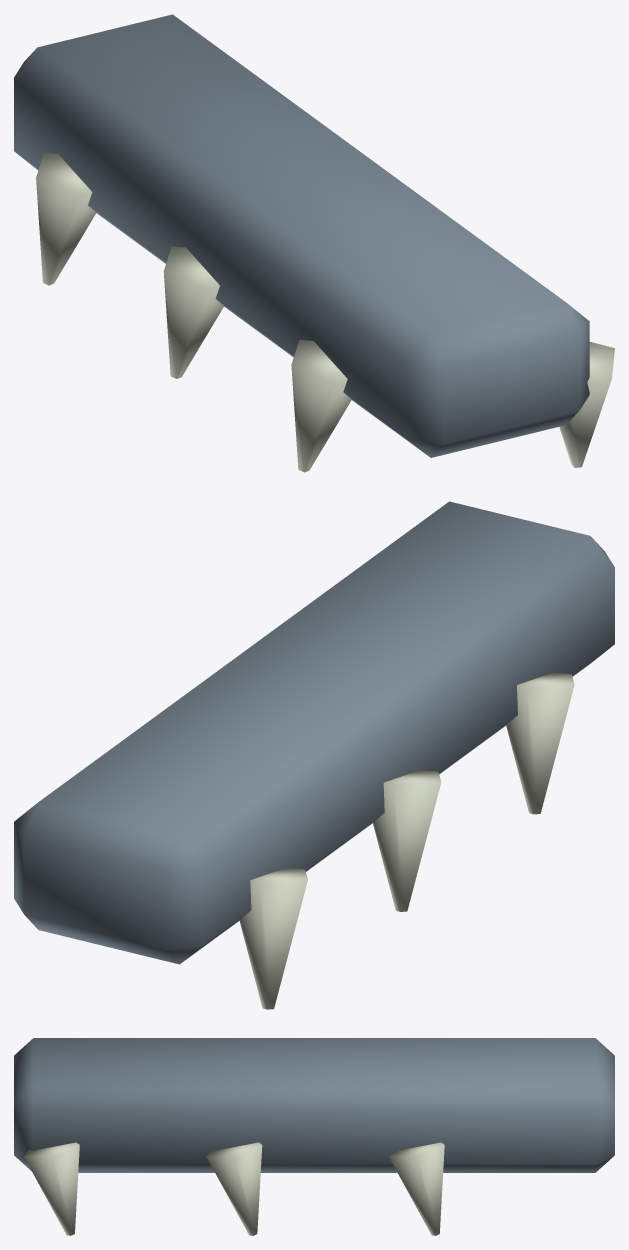
Rendered from saw_rostrum.glb.
3 renders of one model, top to bottom at view 1: azimuth 30°, elevation 25°; view 2: azimuth 150°, elevation 25°; view 3: azimuth 270°, elevation 25°, orthographic. The views are drawn at different scales.
Parts seen in each view (by area): view 1: saw_rostrum; view 2: saw_rostrum; view 3: saw_rostrum.
Boxes of the visible parts, x1,y1,x2,y2 form: saw_rostrum: (14, 14, 614, 472); saw_rostrum: (14, 501, 614, 1009); saw_rostrum: (14, 1038, 614, 1235).
Size of the model in its own units: 0.1996 by 0.1408 by 0.56.
